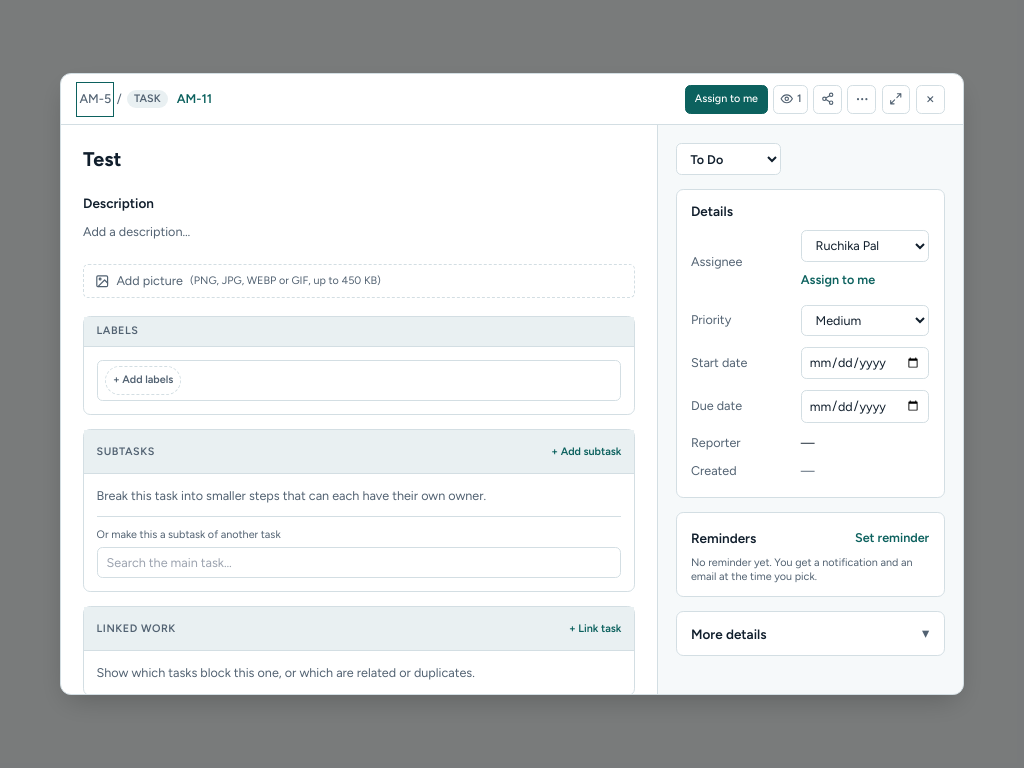
Scenario: watch and flag from the top of the task window
The width and height of the screenshot is (1024, 768).
What coordinates should you click on to do the following:
click the button "1"
I would click on:
 (791, 99)
Its box is [773, 85, 808, 114].
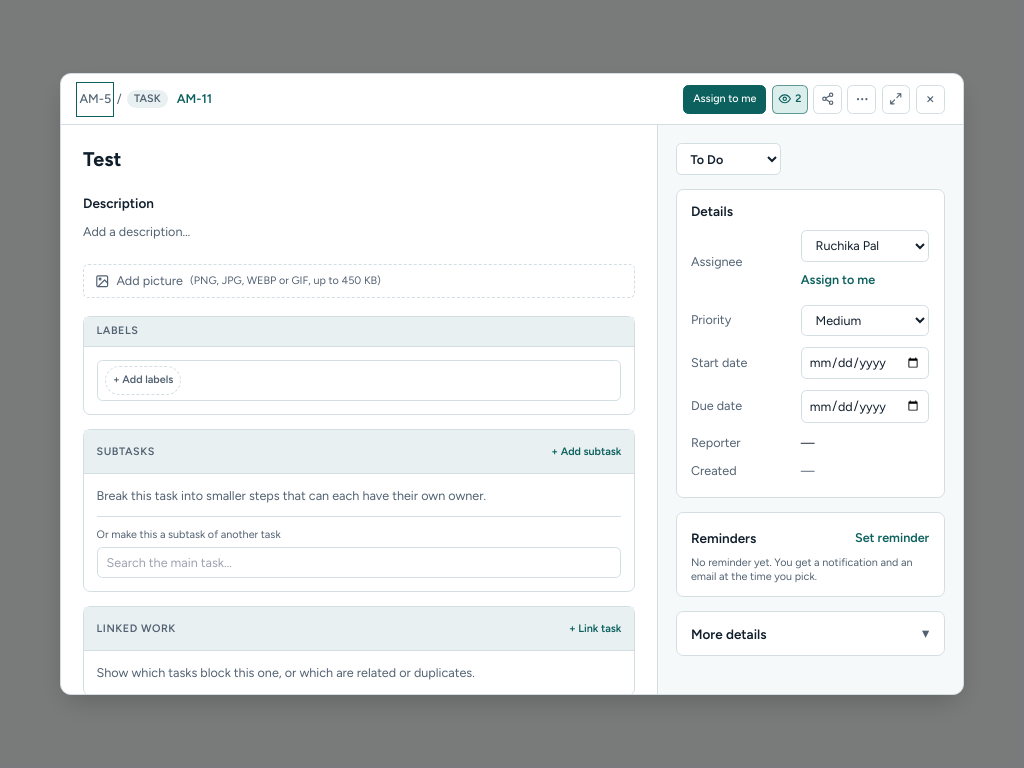
What coordinates should you click on to do the following:
click the button named "More actions"
I would click on:
 (862, 99)
Its box is [847, 85, 876, 114].
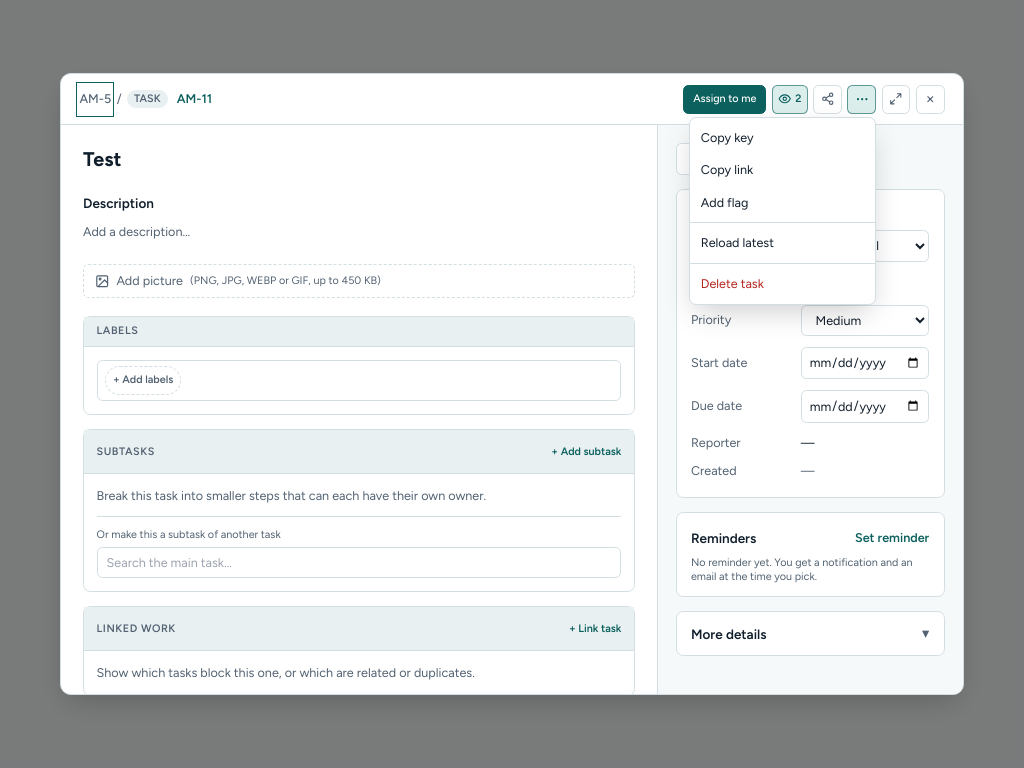
What coordinates should you click on to do the following:
click the menu item "Add flag"
I would click on:
 (783, 203)
Its box is [690, 186, 875, 219].
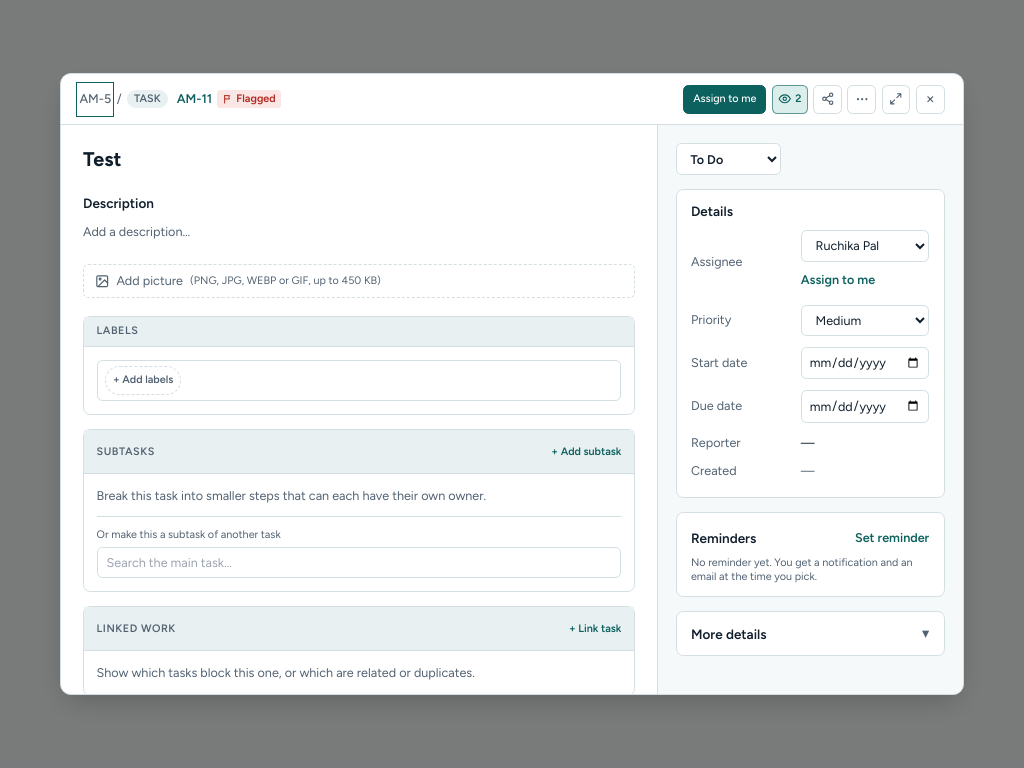
Result: the navigation bar named "Breadcrumb" shows "Flagged" at [236, 92, 276, 105]
